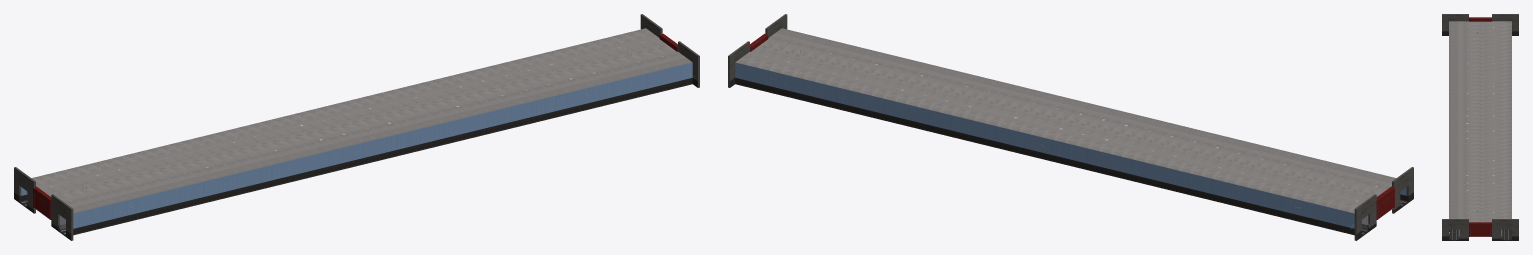
File: MITHT.fbx
3 renders of one model, left to right at view 1: azimuth 30°, elevation 25°; view 2: azimuth 150°, elevation 25°; view 3: azimuth 270°, elevation 25°, orthographic. The views are drawn at different scales.
Visible parts, largest first — view 1: platform roof, side wall, platform tracks.001, platform l side front wall.001|platform l side front wall|Du, platform l side front wall.002|platform l side front wall|Du, platform l side front wall.003|platform l side front wall|Du; view 2: platform roof, side wall, platform tracks.001, platform l side front wall.002|platform l side front wall|Du, platform l side front wall.001|platform l side front wall|Du, platform l side front wall.004|platform l side front wall|Du; view 3: platform roof, platform l side front wall.004|platform l side front wall|Du, platform l side front wall.003|platform l side front wall|Du, platform l side front wall.002|platform l side front wall|Du, platform l side front wall.001|platform l side front wall|Du, platform tracks.001, station low hermetic door.002|station low hermetic door|Dupl, station low hermetic door.002|station low hermetic wall|Dupl, station low hermetic door.001|station low hermetic wall|Dupl, platform column.
Boxes of the visible parts, x1,y1,x2,y2 form: platform roof: (31,28,692,213); side wall: (21,62,692,233); platform tracks.001: (21,83,692,235); platform l side front wall.001|platform l side front wall|Du: (51,194,73,240); platform l side front wall.002|platform l side front wall|Du: (14,167,35,213); platform l side front wall.003|platform l side front wall|Du: (678,41,699,87); platform roof: (735,28,1396,213); side wall: (735,62,1406,233); platform tracks.001: (735,83,1406,235); platform l side front wall.002|platform l side front wall|Du: (1354,194,1376,240); platform l side front wall.001|platform l side front wall|Du: (1392,167,1413,213); platform l side front wall.004|platform l side front wall|Du: (728,41,749,87); platform roof: (1449,21,1511,222); platform l side front wall.004|platform l side front wall|Du: (1492,219,1518,240); platform l side front wall.003|platform l side front wall|Du: (1442,219,1468,240); platform l side front wall.002|platform l side front wall|Du: (1492,14,1518,35); platform l side front wall.001|platform l side front wall|Du: (1442,14,1468,35); platform tracks.001: (1449,229,1511,239); station low hermetic door.002|station low hermetic door|Dupl: (1470,227,1490,236); station low hermetic door.002|station low hermetic wall|Dupl: (1468,222,1492,236); station low hermetic door.001|station low hermetic wall|Dupl: (1468,17,1492,21); platform column: (1466,26,1494,212).
Bounding box in the file's own units: 2620 × 16650 × 800.
